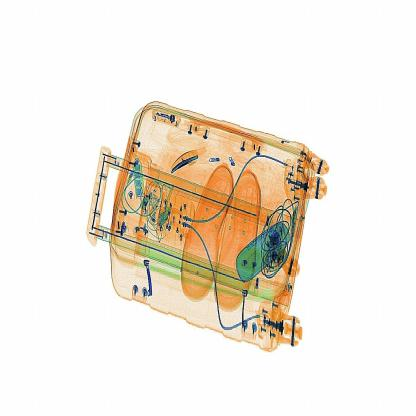pliers: (168, 142, 214, 182)
